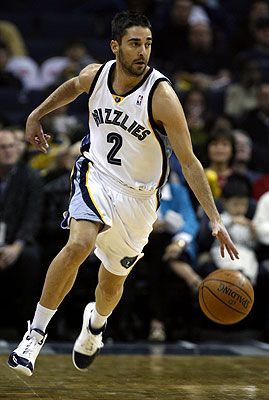basketball: (198, 268, 254, 323)
